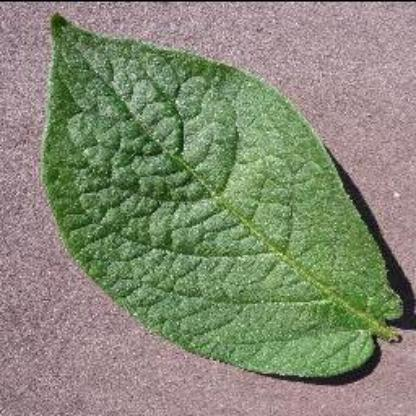Healthy-plant: (40, 10, 404, 386)
